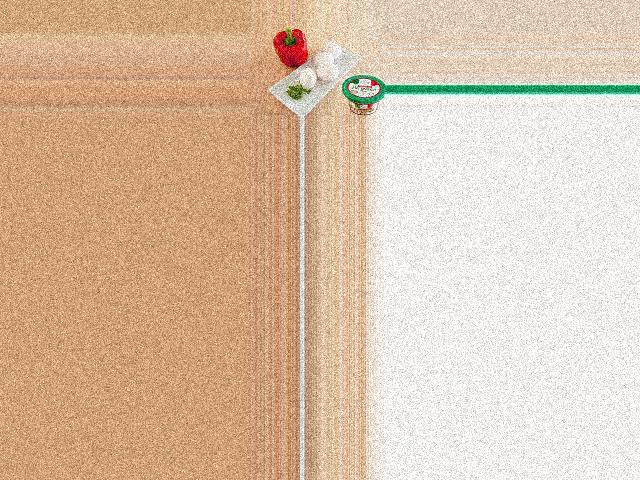bell_pepper: (270, 29, 314, 66)
